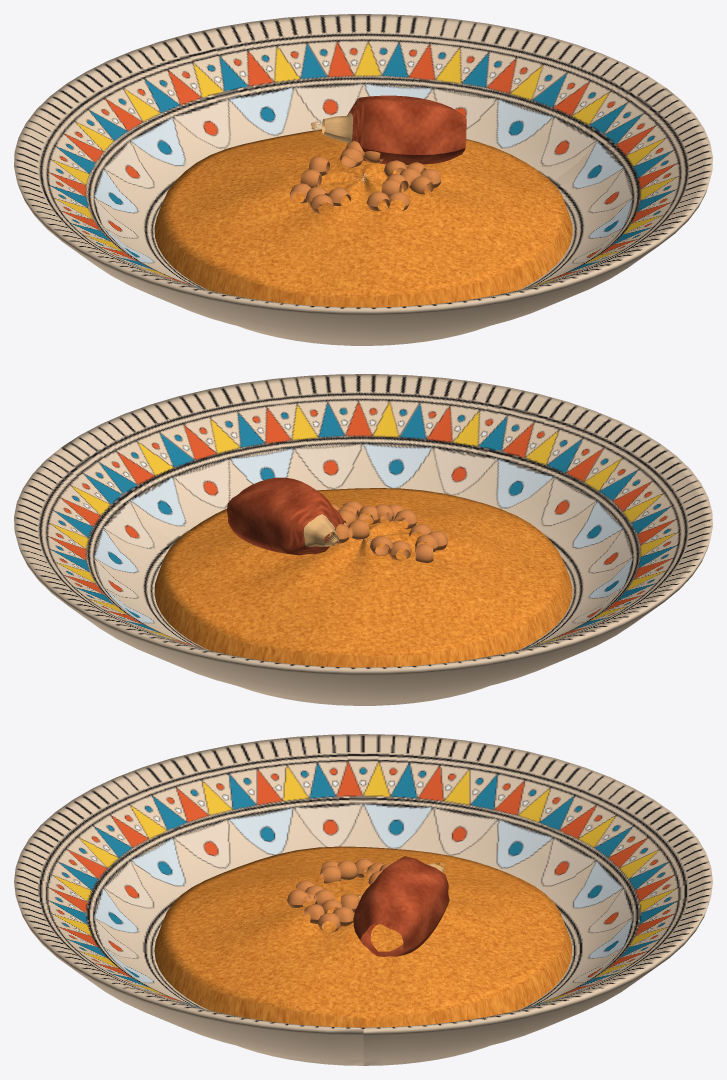
The model's file is Couscous_Plat_040pct.fbx.
The picture shows the model from 3 angles, top to bottom: view 1: azimuth 30°, elevation 25°; view 2: azimuth 150°, elevation 25°; view 3: azimuth 270°, elevation 25°; orthographic projection.
Visible parts, largest first — view 1: 00_Plate_Tebsi_Ceramic, 01_Couscous_Semolina_Mound, 02_Meat_Lamb_Shank_Main, 05_Chickpeas_Cluster; view 2: 00_Plate_Tebsi_Ceramic, 01_Couscous_Semolina_Mound, 02_Meat_Lamb_Shank_Main, 05_Chickpeas_Cluster; view 3: 00_Plate_Tebsi_Ceramic, 01_Couscous_Semolina_Mound, 02_Meat_Lamb_Shank_Main, 05_Chickpeas_Cluster.
Part boxes in pixels (left/top/right/bottom): 00_Plate_Tebsi_Ceramic: left=14, top=14, right=712, bottom=345; 01_Couscous_Semolina_Mound: left=154, top=129, right=572, bottom=307; 02_Meat_Lamb_Shank_Main: left=311, top=95, right=466, bottom=164; 05_Chickpeas_Cluster: left=290, top=140, right=441, bottom=213; 00_Plate_Tebsi_Ceramic: left=14, top=374, right=712, bottom=705; 01_Couscous_Semolina_Mound: left=154, top=488, right=572, bottom=667; 02_Meat_Lamb_Shank_Main: left=227, top=477, right=343, bottom=555; 05_Chickpeas_Cluster: left=326, top=501, right=447, bottom=563; 00_Plate_Tebsi_Ceramic: left=14, top=734, right=712, bottom=1065; 01_Couscous_Semolina_Mound: left=154, top=846, right=572, bottom=1027; 02_Meat_Lamb_Shank_Main: left=353, top=856, right=449, bottom=956; 05_Chickpeas_Cluster: left=287, top=858, right=391, bottom=932.
Size of the model in its own units: 32 by 7.11 by 32.
